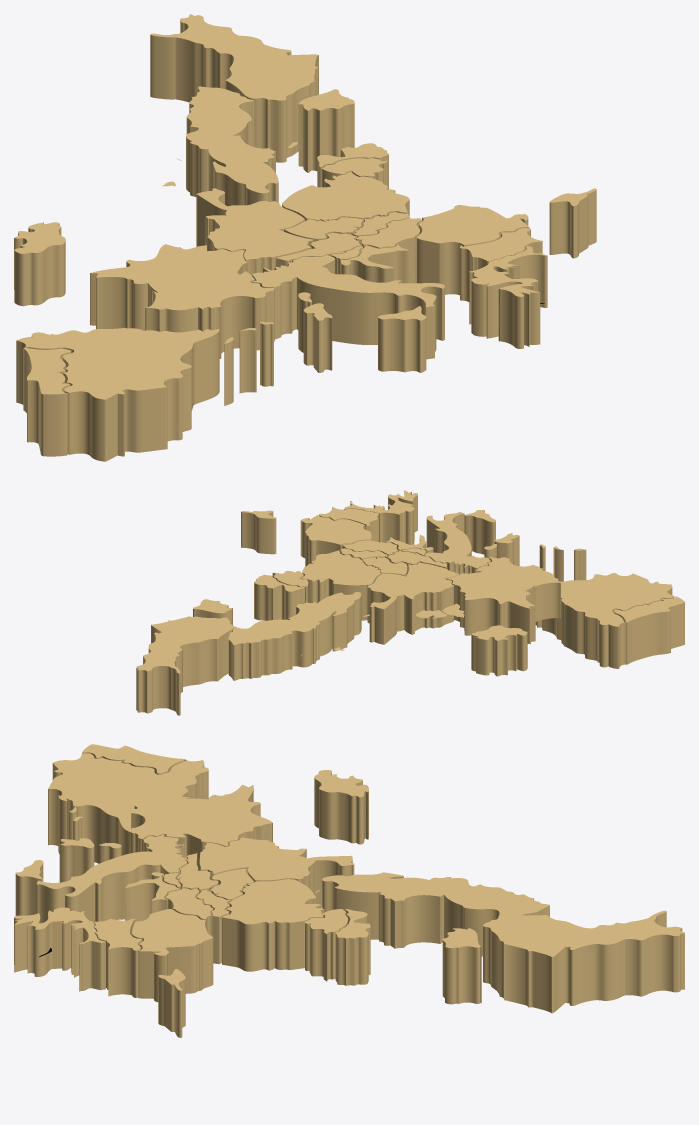
The model's file is european_union_map.glb.
3 renders of one model, top to bottom at view 1: azimuth 30°, elevation 25°; view 2: azimuth 150°, elevation 25°; view 3: azimuth 270°, elevation 25°, orthographic. The views are drawn at different scales.
Visible parts, largest first — view 1: Curve; view 2: Curve; view 3: Curve.
Part boxes in pixels (<box>): Curve: <box>14,14,596,461</box>; Curve: <box>136,490,684,715</box>; Curve: <box>14,744,684,1037</box>.
Size of the model in its own units: 638 by 64.21 by 503.
